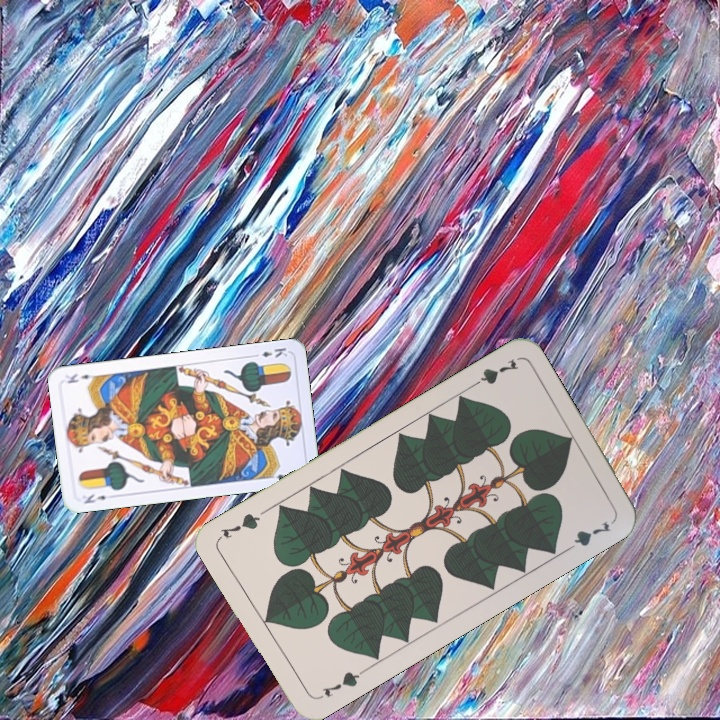EK: (249, 343, 290, 360), (80, 490, 109, 506)
G7: (465, 355, 521, 392), (318, 665, 366, 700)
